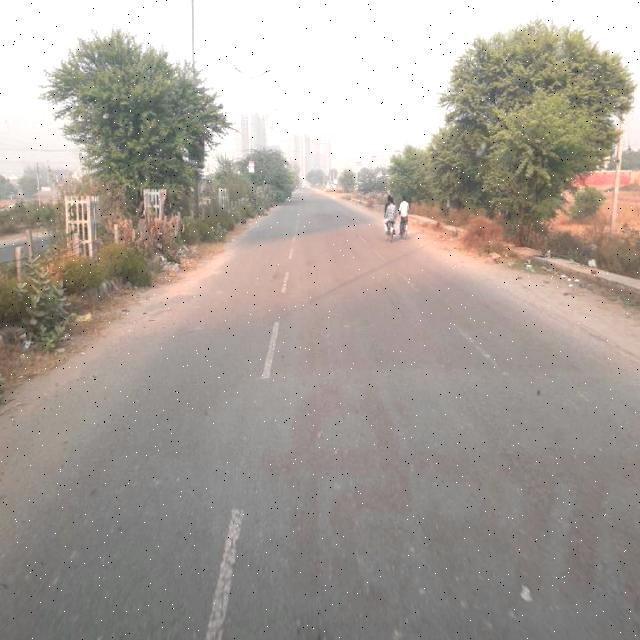D00: (482, 406, 602, 574)
D44: (459, 321, 514, 374)
